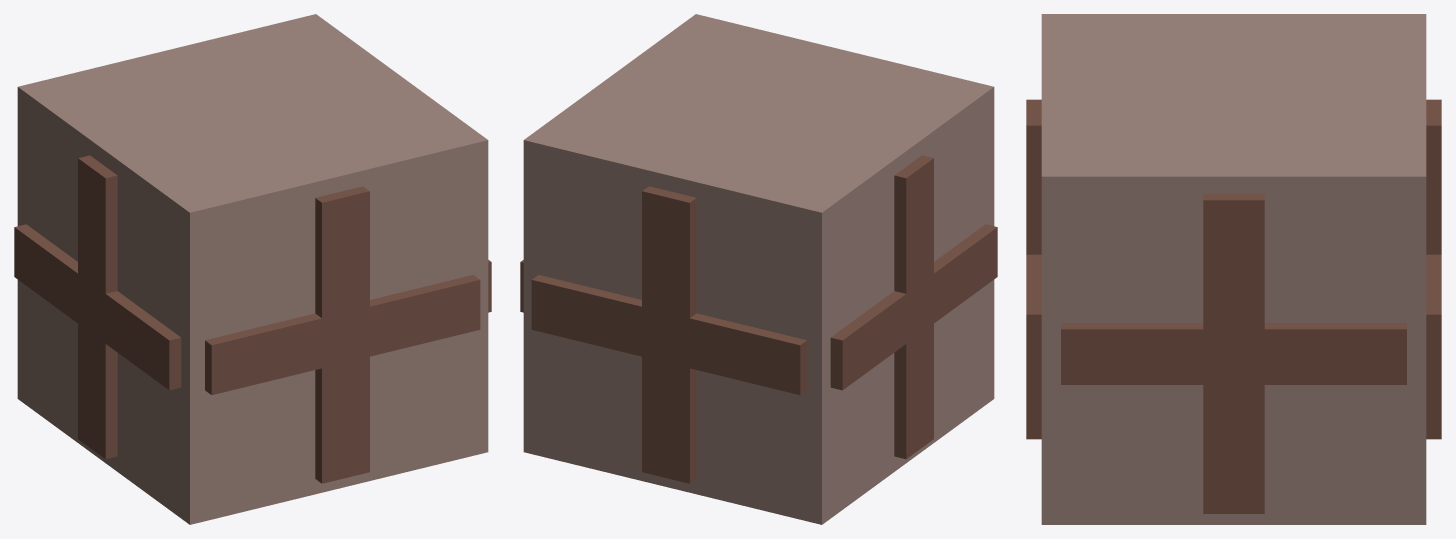
File: crate.glb
3 views of the same model, side by side, from view 1: azimuth 30°, elevation 25°; view 2: azimuth 150°, elevation 25°; view 3: azimuth 270°, elevation 25° (orthographic). The views are drawn at different scales.
Parts seen in each view (by area): view 1: runner/crate; view 2: runner/crate; view 3: runner/crate.
Boxes of the visible parts, box(x1,y1,x2,y2) form: runner/crate: box(14, 14, 491, 524); runner/crate: box(520, 14, 997, 524); runner/crate: box(1026, 14, 1441, 524).
Bounding box in the file's own units: 1 × 0.9259 × 1.
